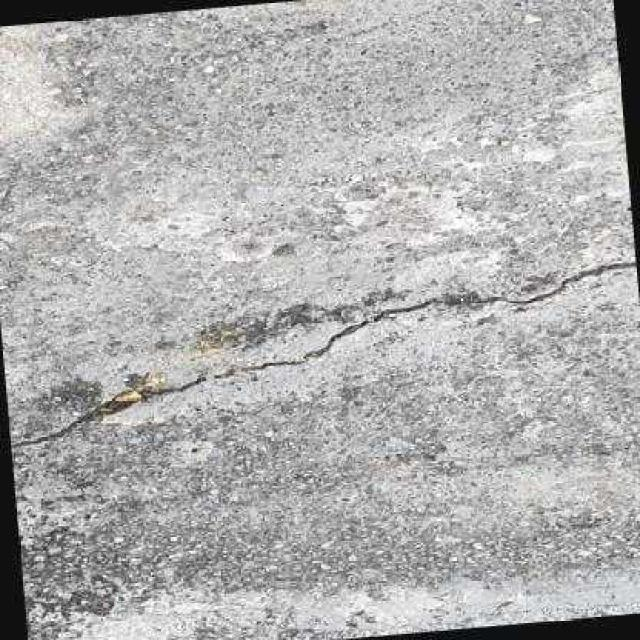D00: (9, 261, 637, 449)
